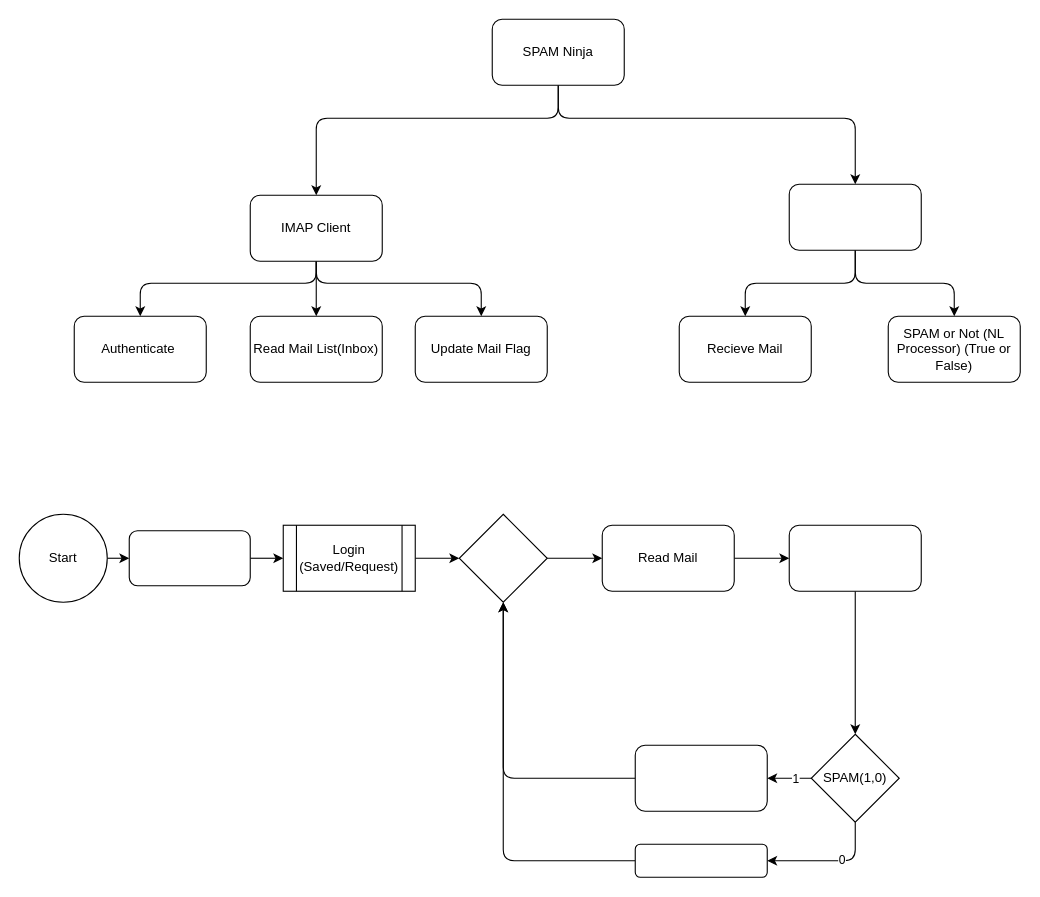
This 1040x897 diagram has some shape labels left out. Here are the shapes that lost their labels. From the top down, the centre of each, then its label:
At (x=854, y=216): "(AI) SPAM Engine".
At (x=189, y=558): "Connect to Mail Server".
At (x=502, y=557): "True".
At (x=854, y=557): "Send to Engine".
At (x=700, y=777): "Change Flag to SPAM".
At (x=700, y=860): "Get Next".
